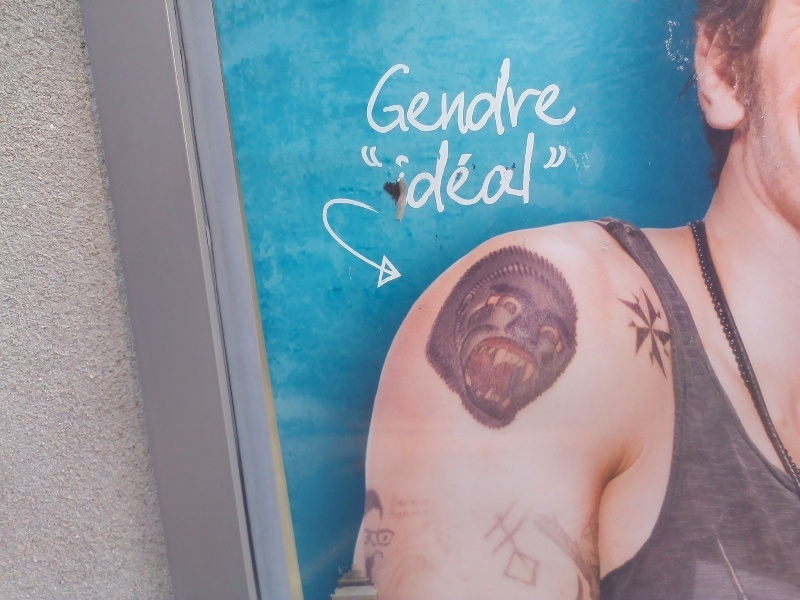text: (369, 129, 384, 217), (385, 129, 400, 217), (401, 129, 416, 217), (417, 129, 432, 217), (433, 129, 448, 217), (449, 129, 464, 217), (465, 129, 480, 217), (481, 129, 496, 217), (497, 129, 512, 217), (513, 129, 528, 217), (529, 129, 544, 217), (545, 129, 560, 217), (369, 57, 384, 140), (385, 57, 400, 140), (401, 57, 416, 140), (417, 57, 432, 140), (433, 57, 448, 140), (449, 57, 464, 140), (465, 57, 480, 140), (481, 57, 496, 140), (497, 57, 512, 140), (513, 57, 528, 140), (529, 57, 544, 140), (545, 57, 560, 140), (561, 57, 576, 140), (561, 129, 573, 217), (357, 129, 368, 217), (577, 57, 584, 140), (362, 57, 368, 140), (401, 493, 416, 509), (417, 493, 432, 509), (401, 507, 416, 522), (417, 507, 432, 522), (389, 493, 400, 509), (390, 507, 400, 522), (433, 493, 440, 509), (433, 507, 434, 522)
